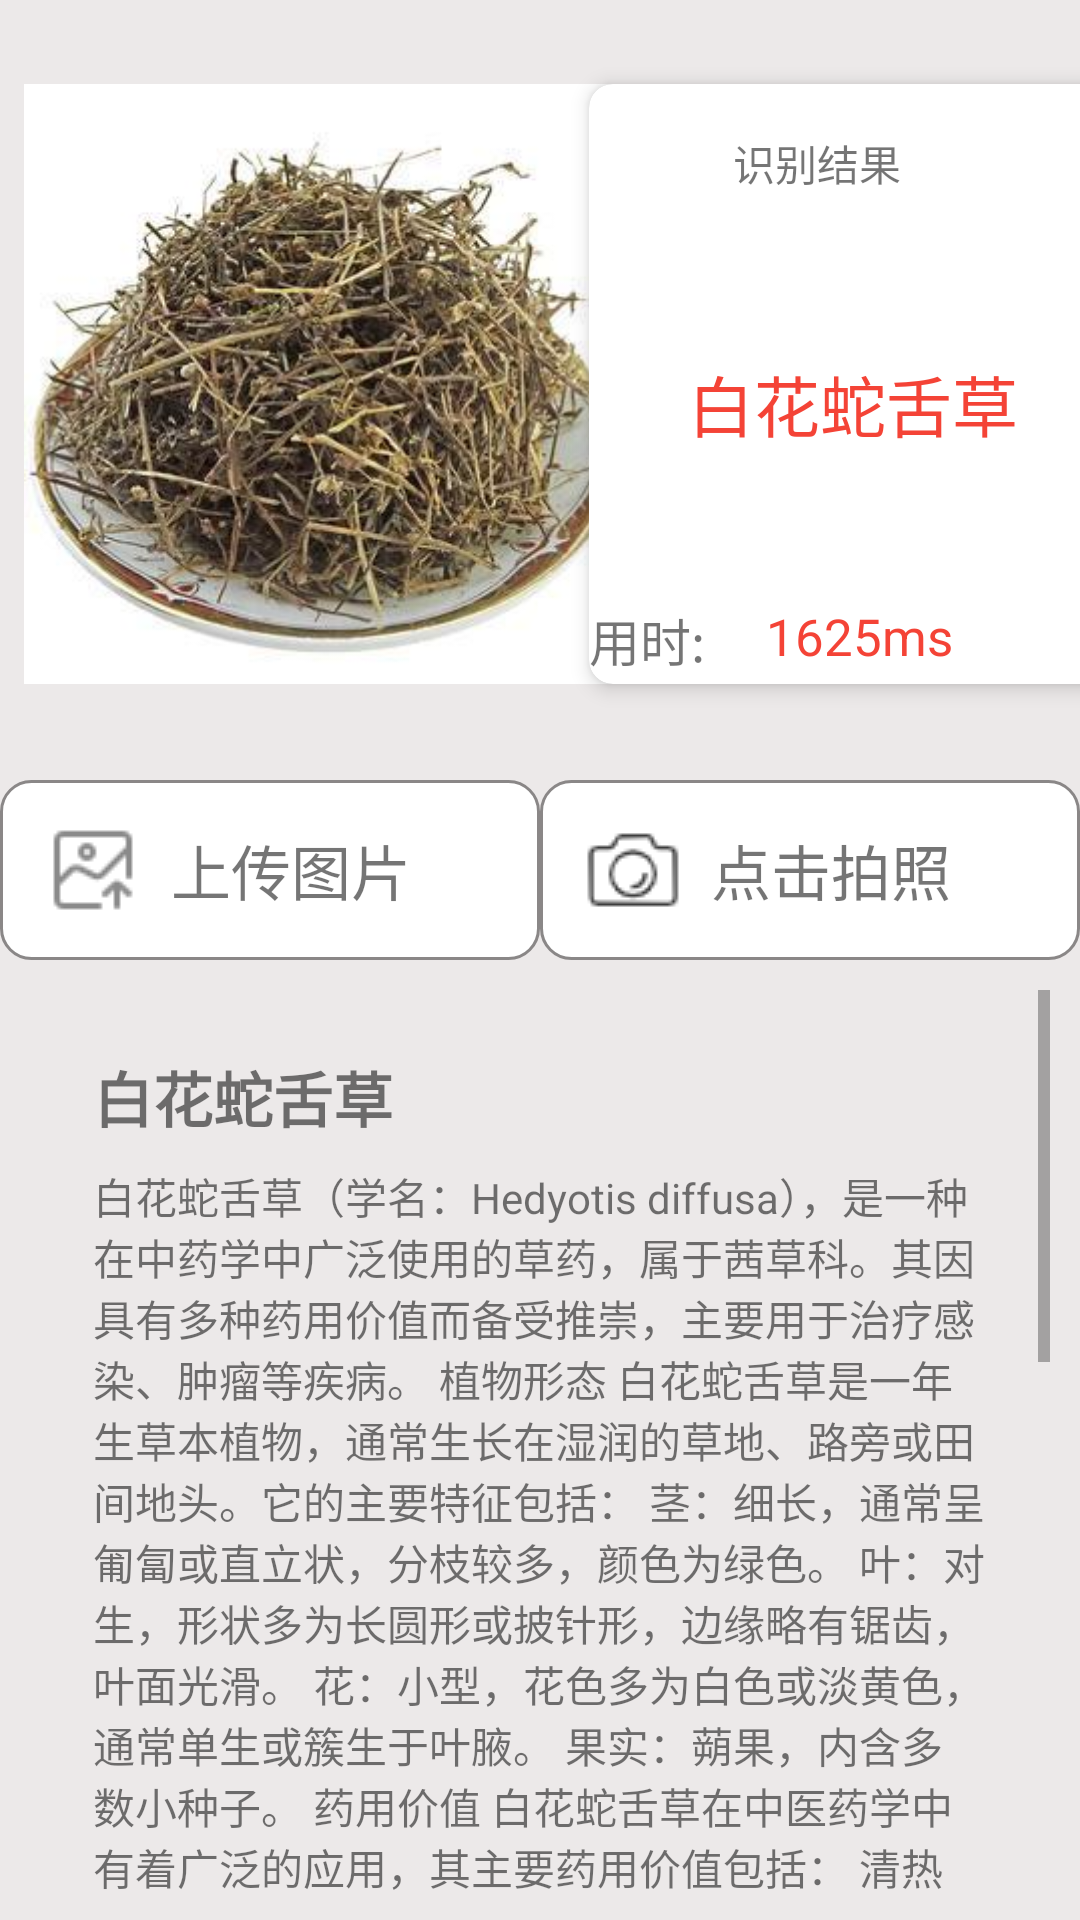

Where icons sit on this 1080 × 1920 app screen, as (x1, y1, x2, y2):
carma: (587, 833, 679, 907)
up load: (53, 830, 133, 910)
